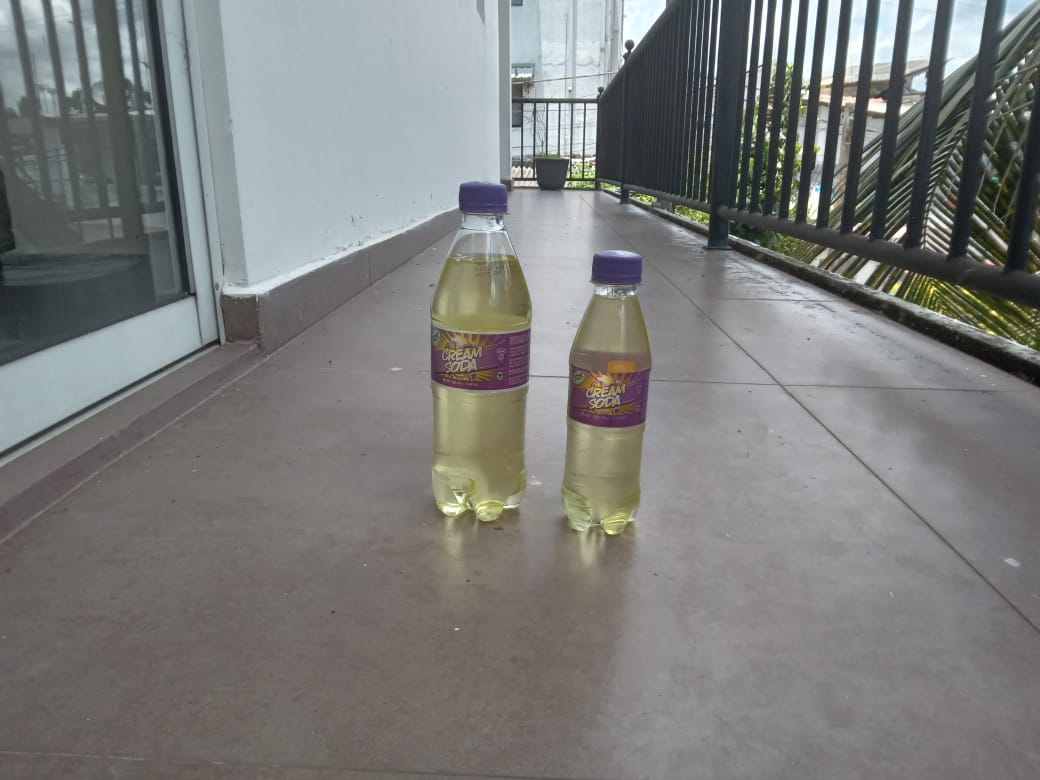S: (427, 182, 534, 522)
Xs: (561, 253, 652, 538)
